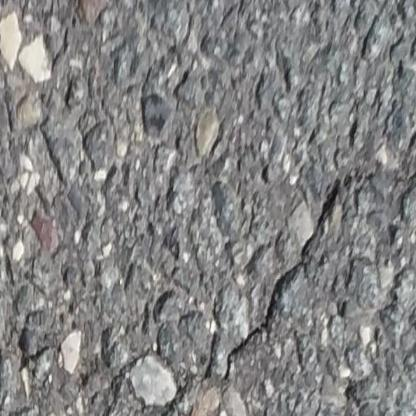Cracks: (221, 177, 345, 389), (396, 141, 416, 232)
